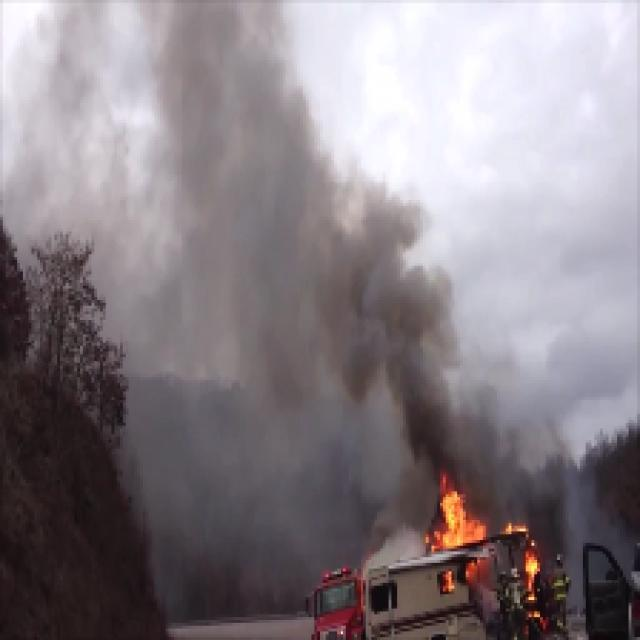Fire: (428, 490, 476, 555)
Smoke: (184, 73, 314, 360), (346, 266, 453, 454)
